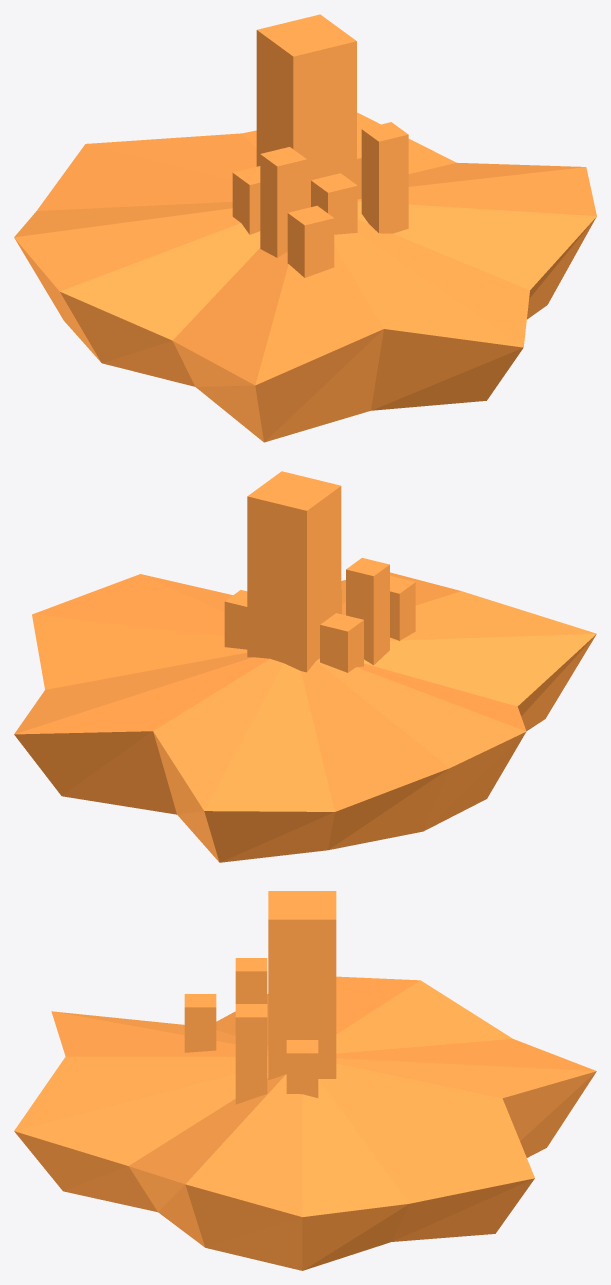
Rendered from region-citadel.glb.
3 renders of one model, top to bottom at view 1: azimuth 30°, elevation 25°; view 2: azimuth 150°, elevation 25°; view 3: azimuth 270°, elevation 25°, orthographic. The views are drawn at different scales.
Parts seen in each view (by area): view 1: ATLAS demo region: citadel; view 2: ATLAS demo region: citadel; view 3: ATLAS demo region: citadel.
Part boxes in pixels (x1,y1,x2,y2): ATLAS demo region: citadel: (14,14,596,442); ATLAS demo region: citadel: (14,471,596,862); ATLAS demo region: citadel: (14,891,596,1270).
Bounding box in the file's own units: 4.98 × 2.6 × 5.14.
